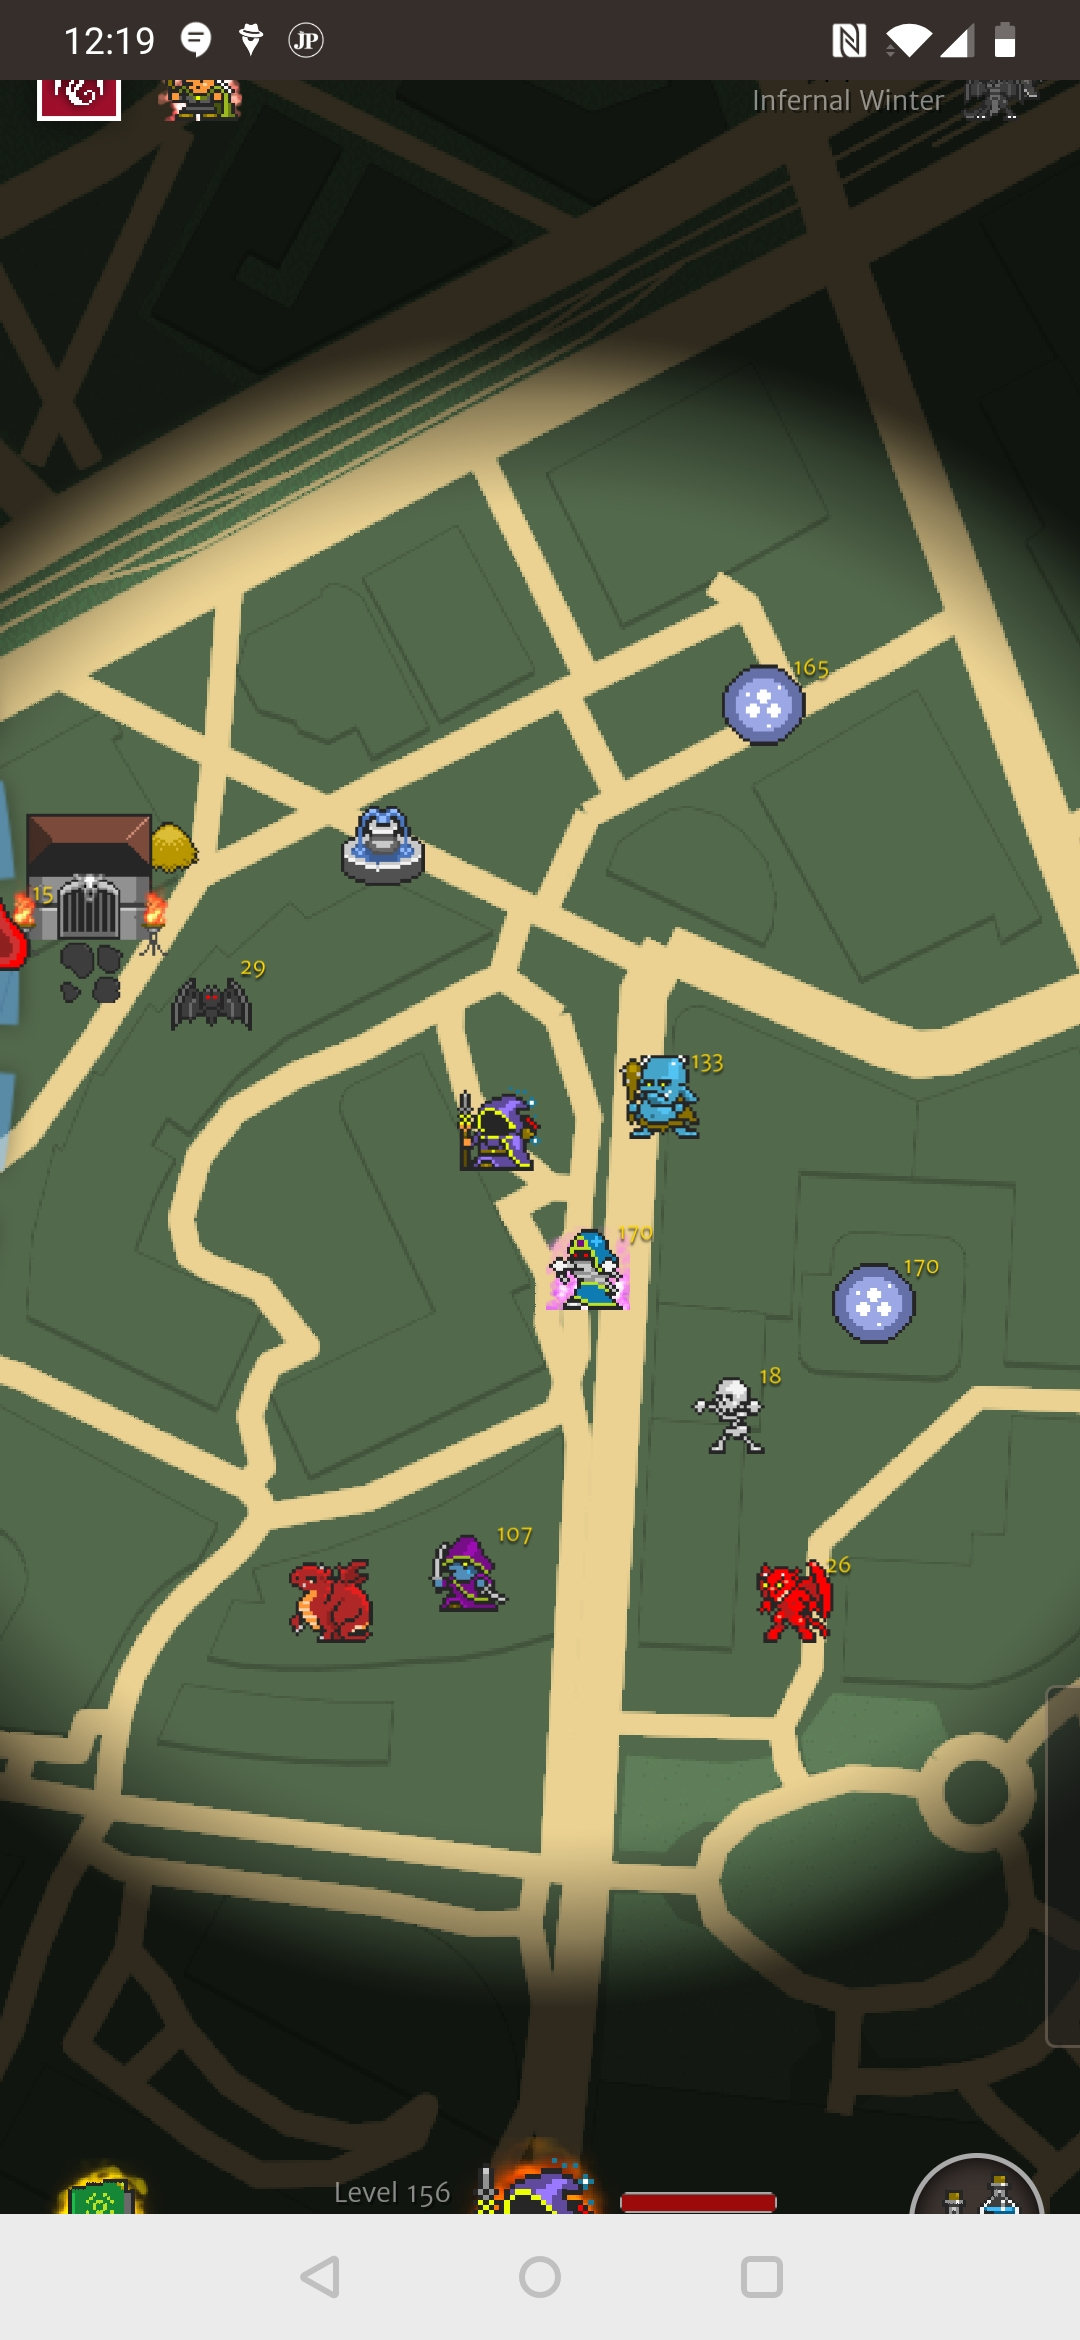monster: (746, 1540, 870, 1661), (708, 647, 846, 751), (619, 1044, 732, 1151), (157, 934, 270, 1040), (832, 1244, 946, 1347), (429, 1520, 543, 1620), (708, 1347, 795, 1461)
player: (439, 1078, 543, 1185)
